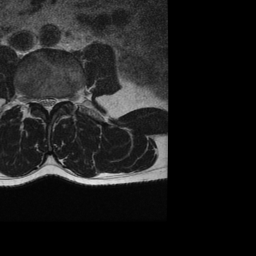CCS_normal: (45, 89, 51, 119)
LFS_stenosis: (57, 91, 64, 109)
LLS_stenosis: (51, 89, 57, 111)
RFS_stenosis: (30, 88, 37, 109)
RLS_stenosis: (38, 90, 45, 112)
